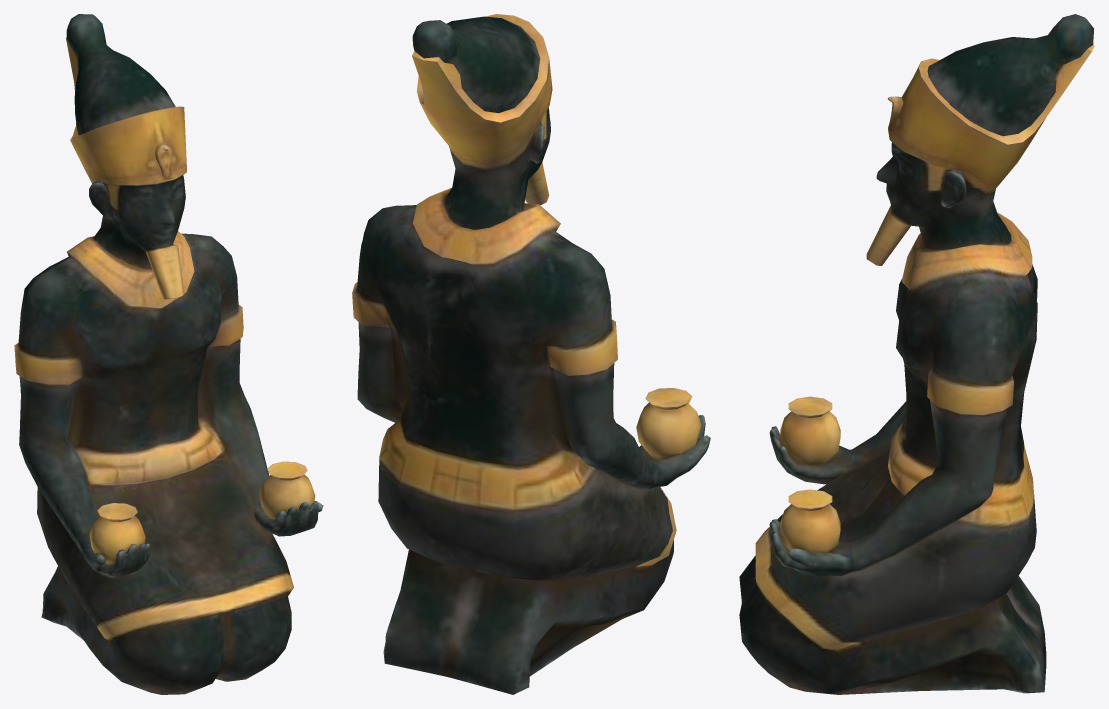
File: 125-monumenttovillagers.glb
The picture shows the model from 3 angles, left to right: view 1: azimuth 30°, elevation 25°; view 2: azimuth 150°, elevation 25°; view 3: azimuth 270°, elevation 25°; orthographic projection. The views are drawn at different scales.
Size of the model in its own units: 1.47 by 3.6 by 1.78.
Materials: 1 (1 with a texture image).
